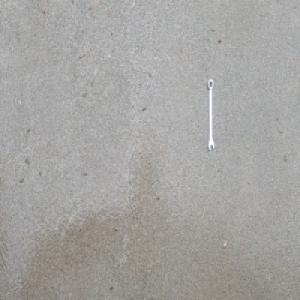Wrench: (206, 78, 214, 152)
